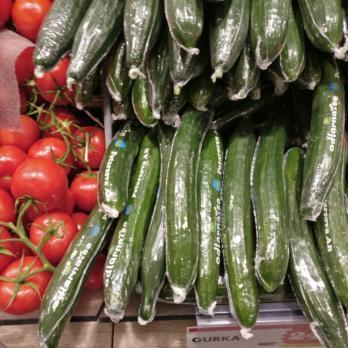Cucumber: (99, 0, 348, 318)
Tomato: (2, 107, 73, 243), (1, 0, 34, 106)
